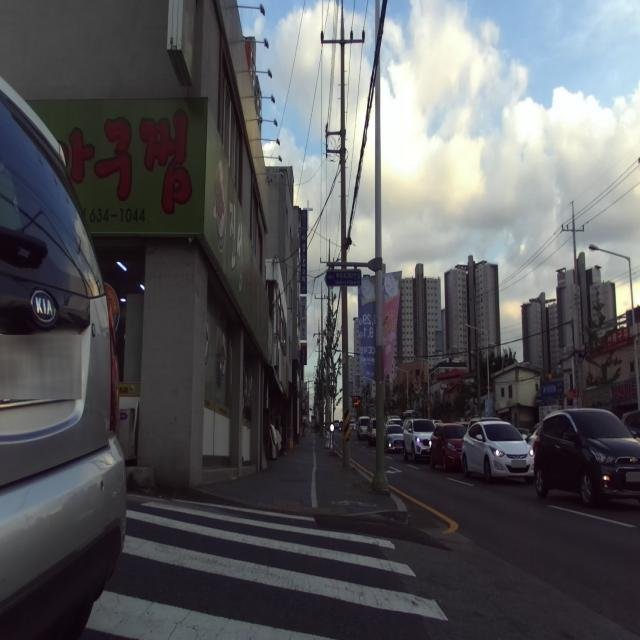횡단보도: (86, 500, 448, 640)
